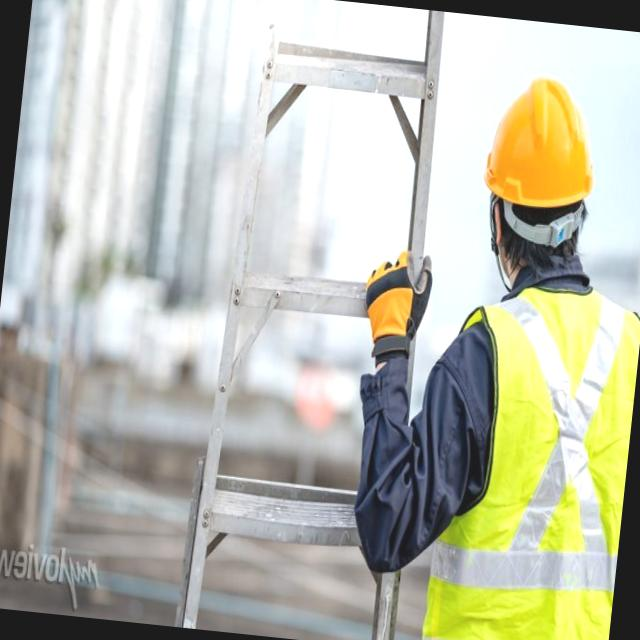helmet: (466, 58, 606, 257)
vest: (421, 254, 640, 640)
